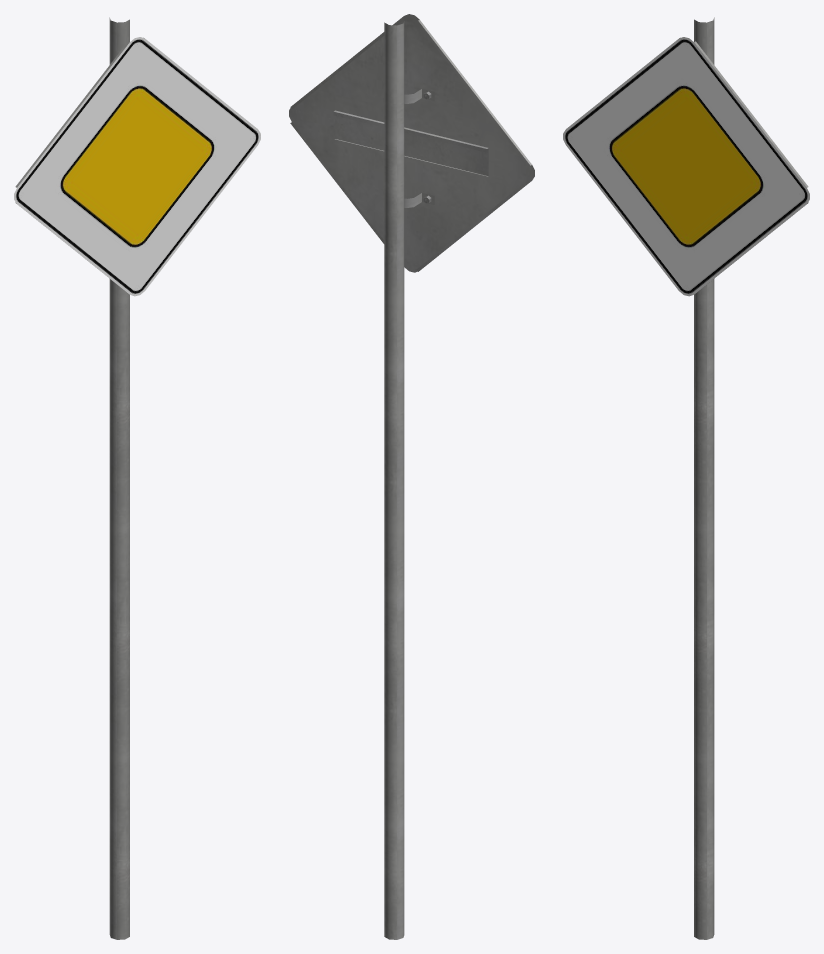
File: sign_main.glb
3 views of the same model, side by side, from view 1: azimuth 30°, elevation 25°; view 2: azimuth 150°, elevation 25°; view 3: azimuth 330°, elevation 25° (orthographic).
Parts seen in each view (by area): view 1: MainRoad_MainRoad_0, __Pole_MetalBack_0; view 2: MainRoad_MetalBack_0, __Pole_MetalBack_0; view 3: MainRoad_MainRoad_0, __Pole_MetalBack_0.
Boxes of the visible parts, bbox=[...] form: MainRoad_MainRoad_0: bbox=[14, 37, 260, 296]; __Pole_MetalBack_0: bbox=[109, 17, 129, 939]; MainRoad_MetalBack_0: bbox=[289, 14, 534, 272]; __Pole_MetalBack_0: bbox=[384, 21, 404, 939]; MainRoad_MainRoad_0: bbox=[563, 37, 809, 296]; __Pole_MetalBack_0: bbox=[694, 17, 714, 939].
Bounding box in the file's own units: 0.8163 × 2.9 × 0.1311.
2 materials, 2 textured.
